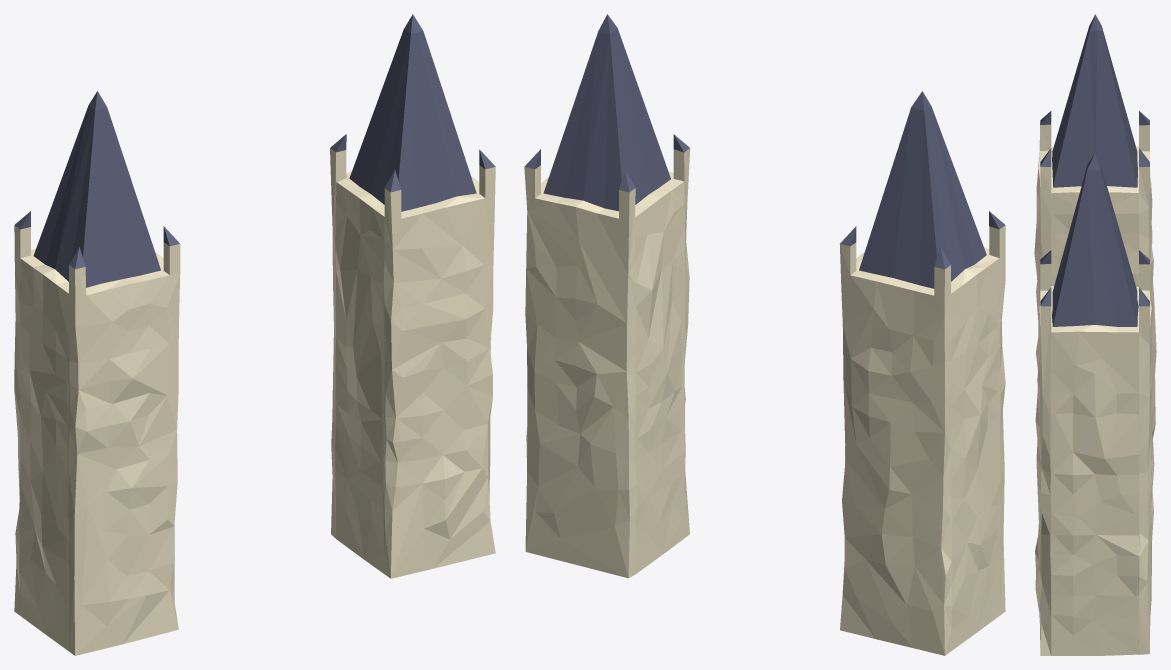
The model's file is hallTowers.fbx.
The picture shows the model from 3 angles, left to right: view 1: azimuth 30°, elevation 25°; view 2: azimuth 150°, elevation 25°; view 3: azimuth 270°, elevation 25°; orthographic projection. The views are drawn at different scales.
Parts seen in each view (by area): view 1: Cube.001; view 2: Cube.001; view 3: Cube.001.
Boxes of the visible parts, box(x1,y1,x2,y2) form: Cube.001: box(14, 14, 495, 655); Cube.001: box(524, 14, 1005, 655); Cube.001: box(1034, 14, 1156, 655).
Bounding box in the file's own units: 3269 × 3867 × 889.
